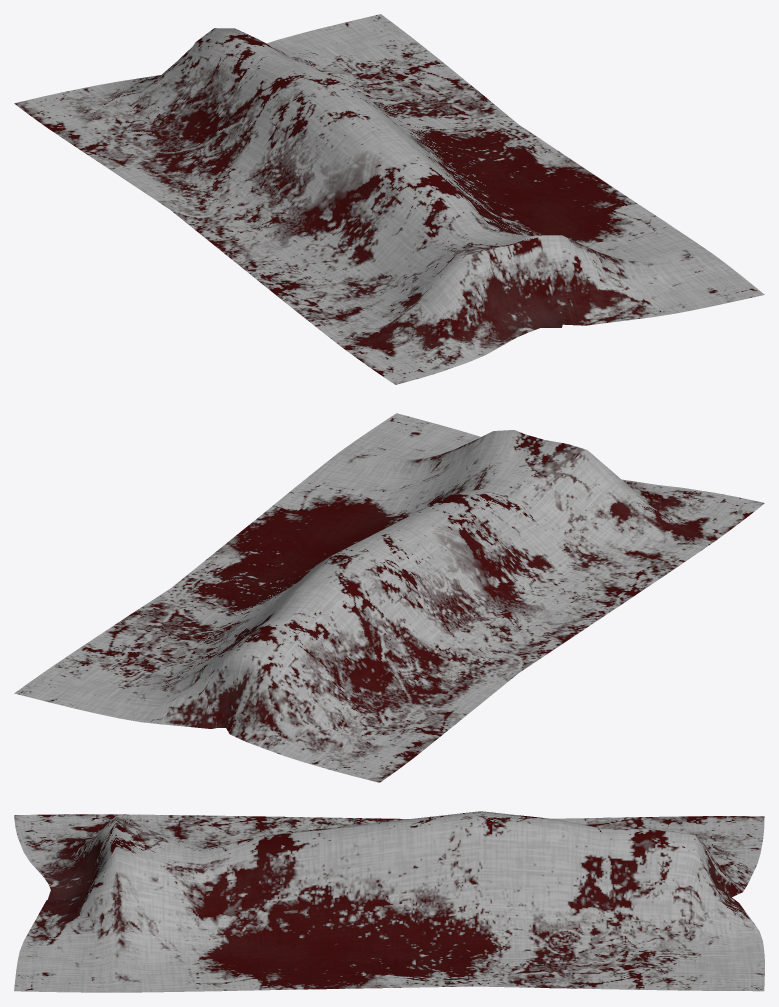
The model's file is DecomposingBody01.fbx.
3 views of the same model, one above another, from view 1: azimuth 30°, elevation 25°; view 2: azimuth 150°, elevation 25°; view 3: azimuth 270°, elevation 25° (orthographic). The views are drawn at different scales.
Parts seen in each view (by area): view 1: DecomposingBody01; view 2: DecomposingBody01; view 3: DecomposingBody01.
Part boxes in pixels (x1,y1,x2,y2): DecomposingBody01: (14, 14, 764, 384); DecomposingBody01: (14, 413, 764, 782); DecomposingBody01: (14, 811, 764, 992).
Size of the model in its own units: 195 by 40.69 by 347.
1 material, 1 textured.
